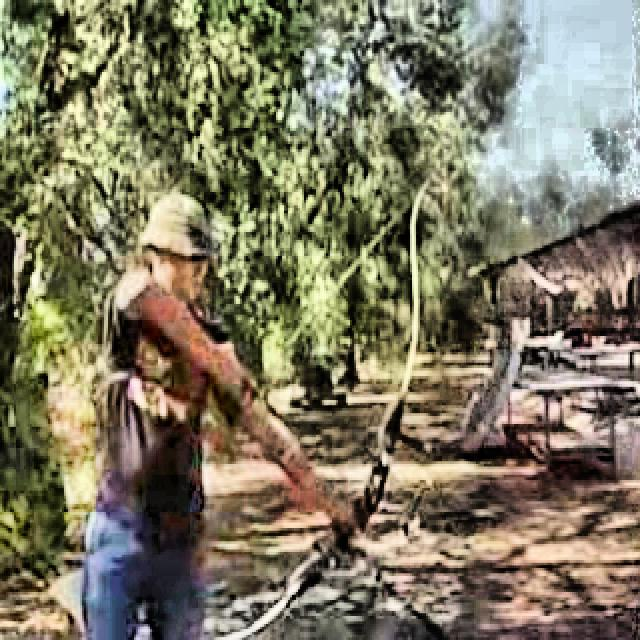I: (74, 176, 378, 640)
